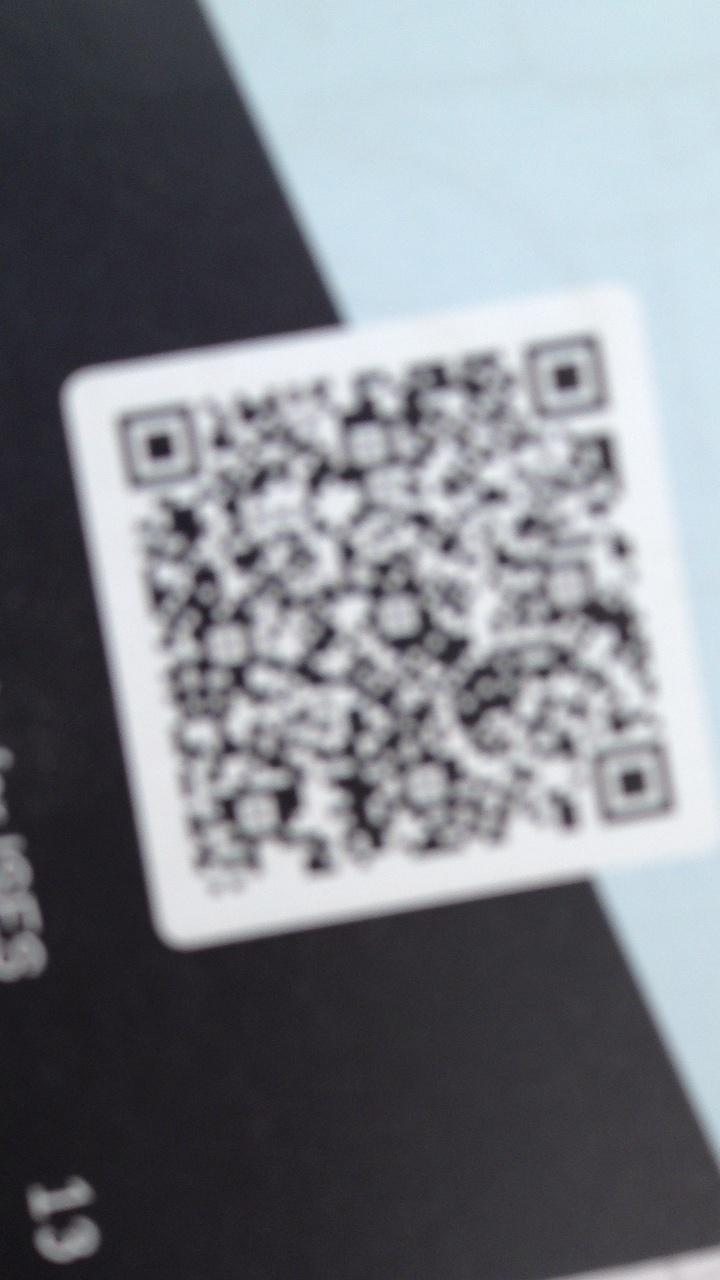Finder pattern: (514, 329, 617, 424), (583, 734, 681, 830), (104, 403, 207, 491)
